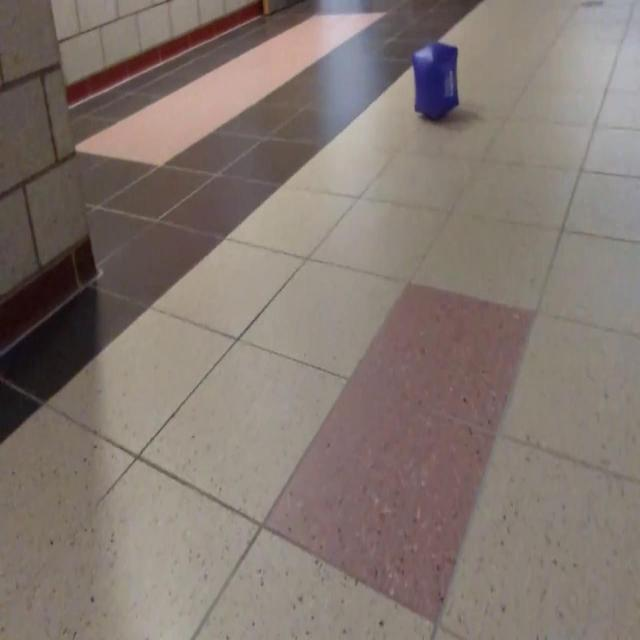frc_cube: (413, 43, 459, 121)
